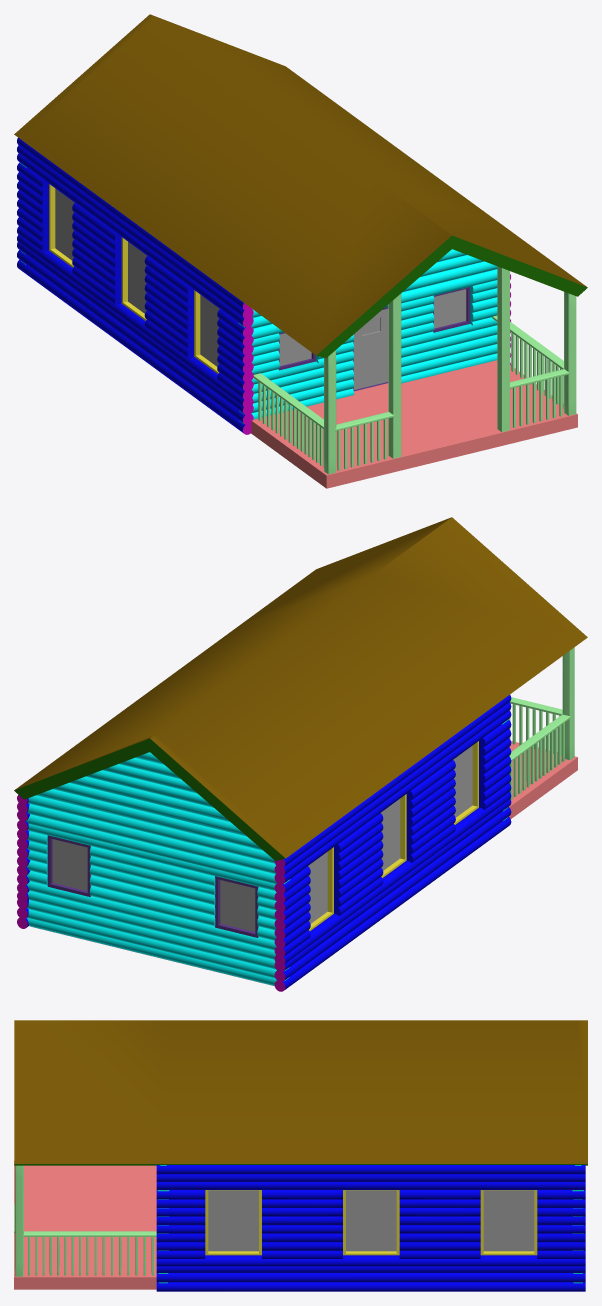
The model's file is newcabin.fbx.
3 renders of one model, top to bottom at view 1: azimuth 30°, elevation 25°; view 2: azimuth 150°, elevation 25°; view 3: azimuth 270°, elevation 25°, orthographic. The views are drawn at different scales.
Visible parts, largest first — view 1: fence8; view 2: fence8; view 3: fence8.
Boxes of the visible parts, <box> form: fence8: <box>14,14,587,488</box>; fence8: <box>14,517,587,991</box>; fence8: <box>14,1020,587,1291</box>.
Bounding box in the file's own units: 10 × 7.83 × 19.27.
